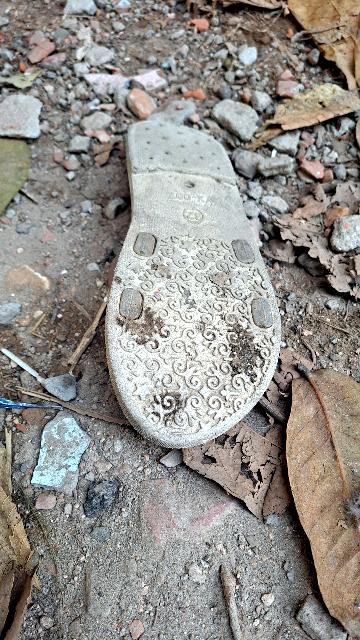sandal: (66, 103, 289, 479)
